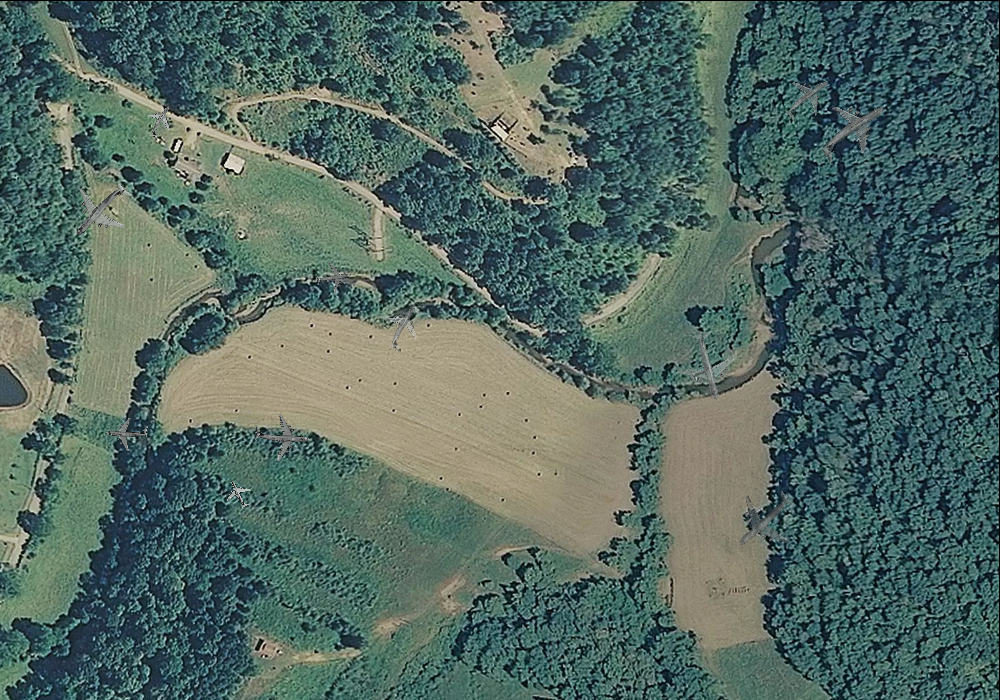plane: (803, 81, 904, 180), (716, 472, 812, 568), (54, 164, 147, 257), (667, 323, 749, 408), (772, 63, 844, 134), (372, 295, 435, 359), (252, 408, 311, 464), (137, 98, 183, 145), (104, 411, 149, 453), (313, 258, 353, 296), (219, 474, 257, 513)
